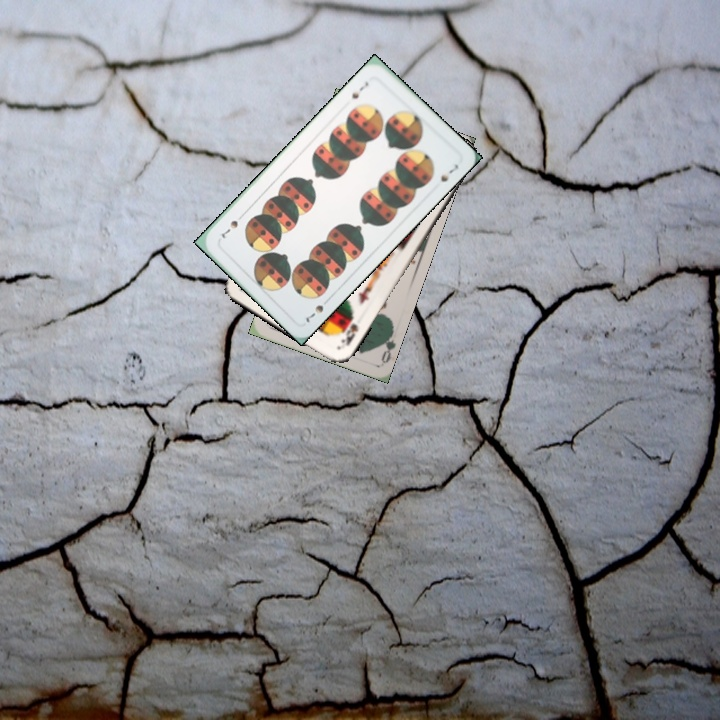GO: (375, 325, 397, 365)
S7: (302, 301, 326, 326), (348, 78, 371, 101)
SK: (337, 319, 361, 349)
